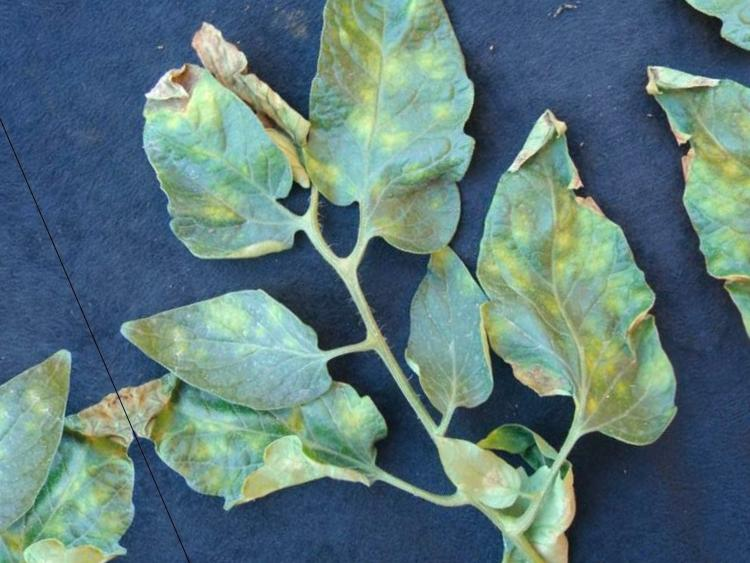Tomato mold leaf: (407, 87, 722, 501), (231, 0, 542, 283), (113, 291, 414, 563), (96, 24, 322, 299), (107, 239, 356, 485), (365, 220, 536, 450), (415, 395, 542, 545)
